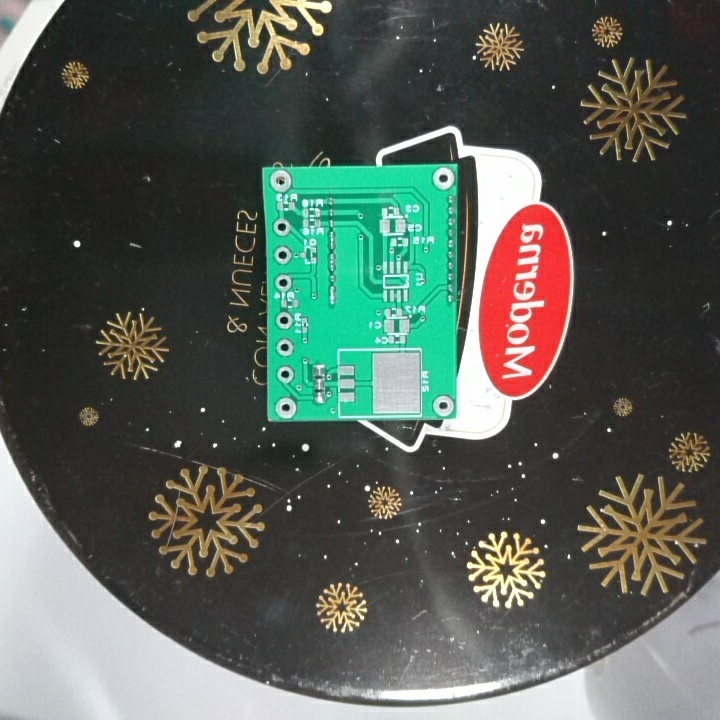F: (268, 169, 294, 195), (430, 167, 456, 193), (431, 394, 454, 418), (272, 397, 298, 418), (274, 310, 296, 332), (271, 216, 292, 239), (273, 272, 294, 295), (274, 338, 296, 358), (273, 245, 293, 266), (276, 365, 296, 384)
P: (325, 229, 339, 252), (326, 286, 338, 309), (326, 252, 338, 274)
